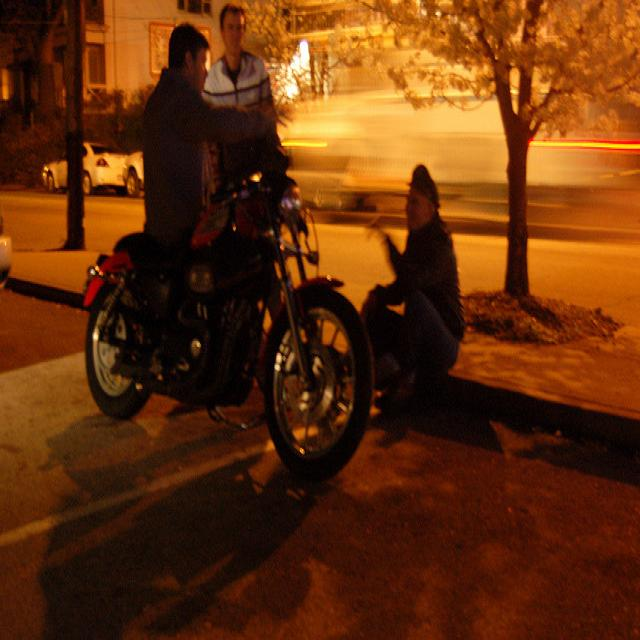Motorbike: (78, 200, 380, 514)
People: (349, 143, 489, 479), (153, 9, 228, 302), (212, 0, 275, 256)
car: (39, 136, 146, 221)
